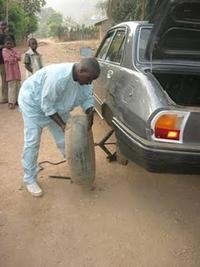person: (18, 58, 101, 197)
